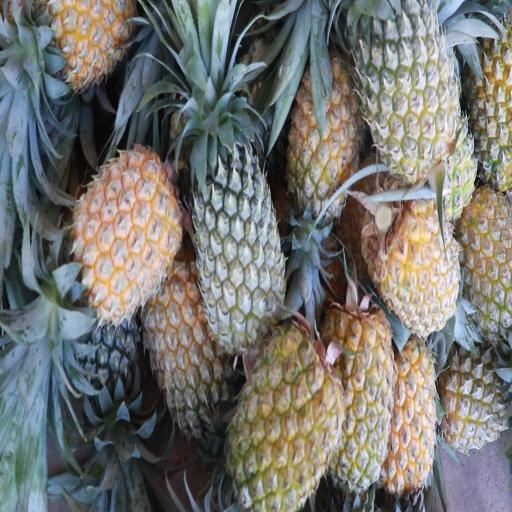------------------------------: (365, 2, 460, 168), (144, 272, 233, 432), (466, 12, 512, 174), (460, 185, 512, 312), (443, 344, 508, 445)
Pineapple - v8 v1: (231, 324, 339, 504), (80, 152, 182, 318), (377, 184, 459, 333), (328, 306, 396, 484), (287, 57, 362, 218), (42, 0, 136, 85), (390, 335, 437, 490)
